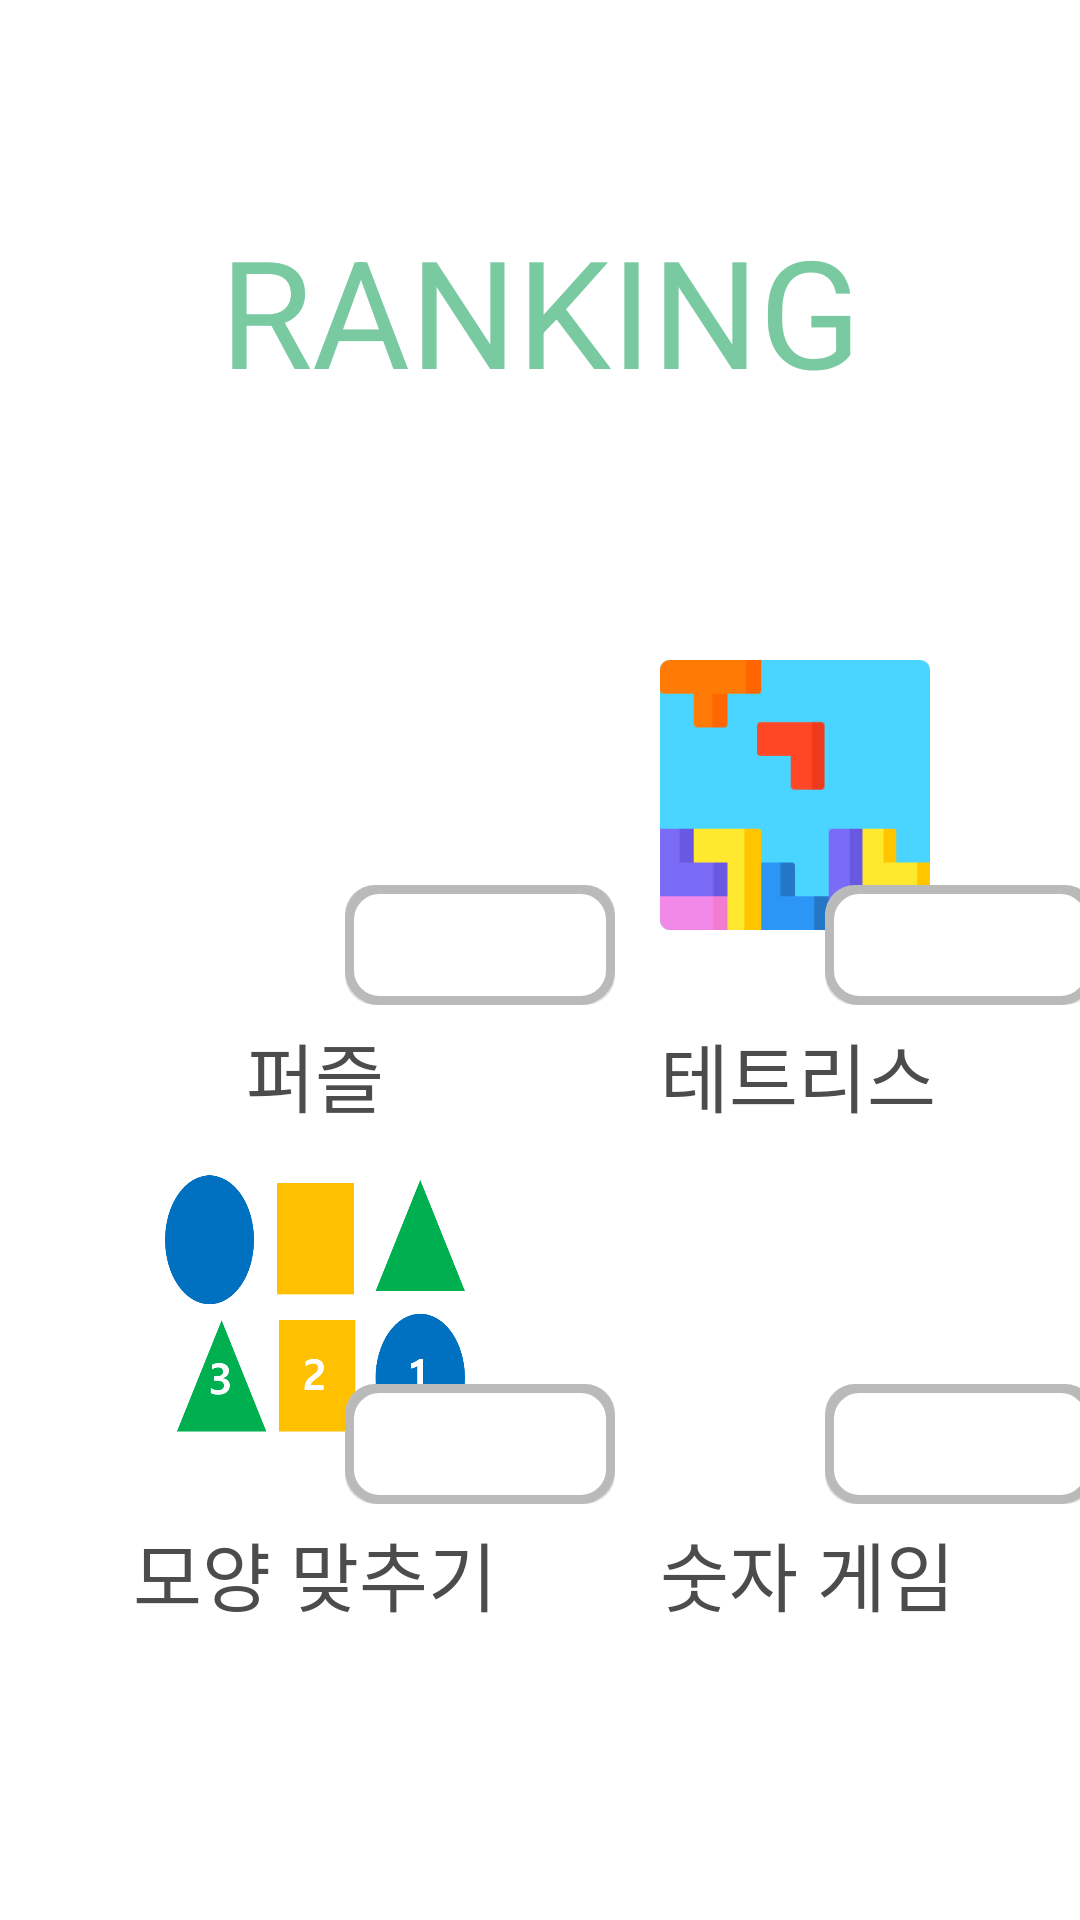

Named icons in this screenshot (1080px x 1920px) and their centers, (x,y):
matching: (315,1303)
tetris: (795,795)
